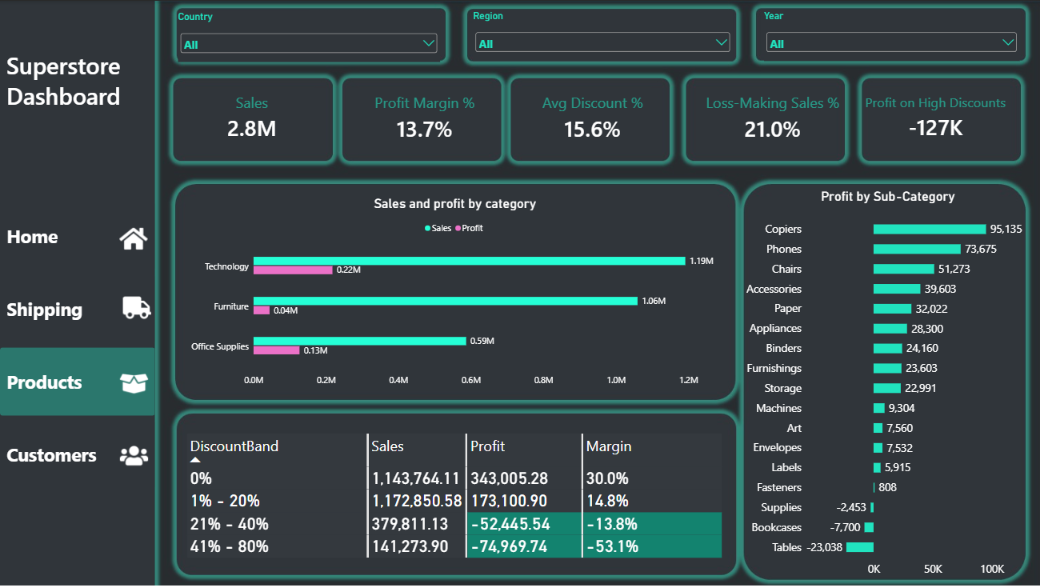

This screenshot's page, from the dashboard's own definition file:
{"tool":"powerbi","page":{"name":"Products","canvas":[1920,1080],"ordinal":2},"visuals":[{"type":"pageNavigator","box":[0,369.9,285.3,528.2],"z":0},{"type":"tableEx","fields":{"Values":["FactSales.DiscountBand","Sum(FactSales.Sales)","Sum(FactSales.Profit)","Main Kpi.Profit Margin %"]},"box":[327.6,782.2,1020,298],"z":1000},{"type":"clusteredBarChart","title":"Profit by Sub-Category","fields":{"Category":["DimProduct.SubCategory"],"Y":["Main Kpi.Total Profit"]},"box":[1349.1,331.3,570.6,749.1],"z":3000},{"type":"clusteredBarChart","title":"Sales and profit by category","fields":{"Category":["DimProduct.Category"],"Y":["Main Kpi.Total Sales","Main Kpi.Total Profit"]},"box":[327.6,344.2,1019.6,386.5],"z":4000},{"type":"textbox","box":[0,88.3,327.6,127],"z":5000},{"type":"cardVisual","fields":{"Data":["Main Kpi.Total Sales"]},"box":[327.6,154.6,272.4,121.5],"z":6000},{"type":"cardVisual","fields":{"Data":["Main Kpi.Profit Margin %"]},"box":[638.7,154.6,286,122],"z":7000},{"type":"cardVisual","fields":{"Data":["Main Kpi.Avg Discount %"]},"box":[947.9,154.6,286,122],"z":8000},{"type":"cardVisual","fields":{"Data":["Main Kpi.Loss-Making Sales %"]},"box":[1279,154,286,122],"z":9000},{"type":"cardVisual","fields":{"Data":["Main Kpi.Profit on High Discounts"]},"box":[1568.1,154.6,307.4,121.5],"z":10000},{"type":"image","box":[206.1,412.3,79.1,51.5],"z":11000},{"type":"image","box":[206.1,539.3,92,51.5],"z":12000},{"type":"image","box":[200.6,679.1,92,51.5],"z":13000},{"type":"image","box":[200.6,811.7,92,51.5],"z":14000},{"type":"slicer","title":"Year","fields":{"Values":["DimDate.Year"]},"box":[1406,16,470,94],"z":15000},{"type":"slicer","title":"Region","fields":{"Values":["DimLocation.Region"]},"box":[870,16,478,94],"z":16000},{"type":"slicer","title":"Country","fields":{"Values":["DimLocation.Country"]},"box":[327,18,482,94],"z":17000}]}

Visuals, with their boxes in screenshot pixels (x1, y1, x2, y2), scaled from the page's 1920x1080 canvas onto the 1040x586 screenshot:
pageNavigator: x1=0, y1=201, x2=155, y2=487
tableEx - FactSales.DiscountBand x Sum(FactSales.Sales): x1=177, y1=424, x2=730, y2=585
"Profit by Sub-Category" clusteredBarChart: x1=731, y1=180, x2=1039, y2=585
"Sales and profit by category" clusteredBarChart: x1=177, y1=187, x2=730, y2=396
textbox: x1=0, y1=48, x2=177, y2=117
cardVisual - Main Kpi.Total Sales: x1=177, y1=84, x2=325, y2=150
cardVisual - Main Kpi.Profit Margin %: x1=346, y1=84, x2=501, y2=150
cardVisual - Main Kpi.Avg Discount %: x1=513, y1=84, x2=668, y2=150
cardVisual - Main Kpi.Loss-Making Sales %: x1=693, y1=84, x2=848, y2=150
cardVisual - Main Kpi.Profit on High Discounts: x1=849, y1=84, x2=1016, y2=150
image: x1=112, y1=224, x2=154, y2=252
image: x1=112, y1=293, x2=161, y2=321
image: x1=109, y1=368, x2=158, y2=396
image: x1=109, y1=440, x2=158, y2=468
"Year" slicer: x1=762, y1=9, x2=1016, y2=60
"Region" slicer: x1=471, y1=9, x2=730, y2=60
"Country" slicer: x1=177, y1=10, x2=438, y2=61
